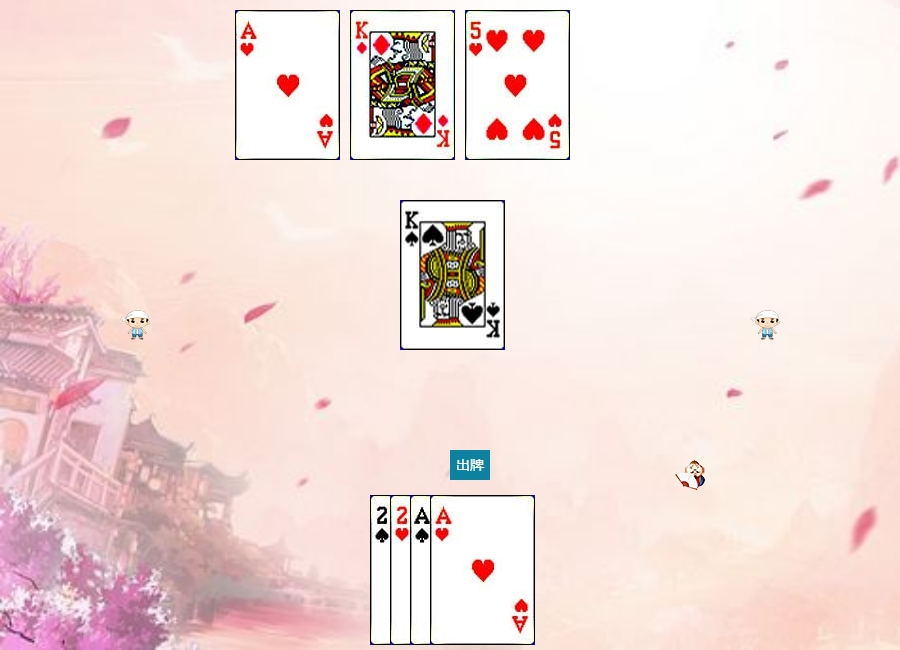13~1: (350, 10, 455, 160)
13~4: (400, 200, 505, 350)
14~3: (235, 10, 340, 160), (430, 495, 535, 645)
14~4: (410, 495, 515, 645)
15~3: (390, 495, 495, 645)
15~4: (370, 495, 475, 645)
5~3: (465, 10, 570, 160)
